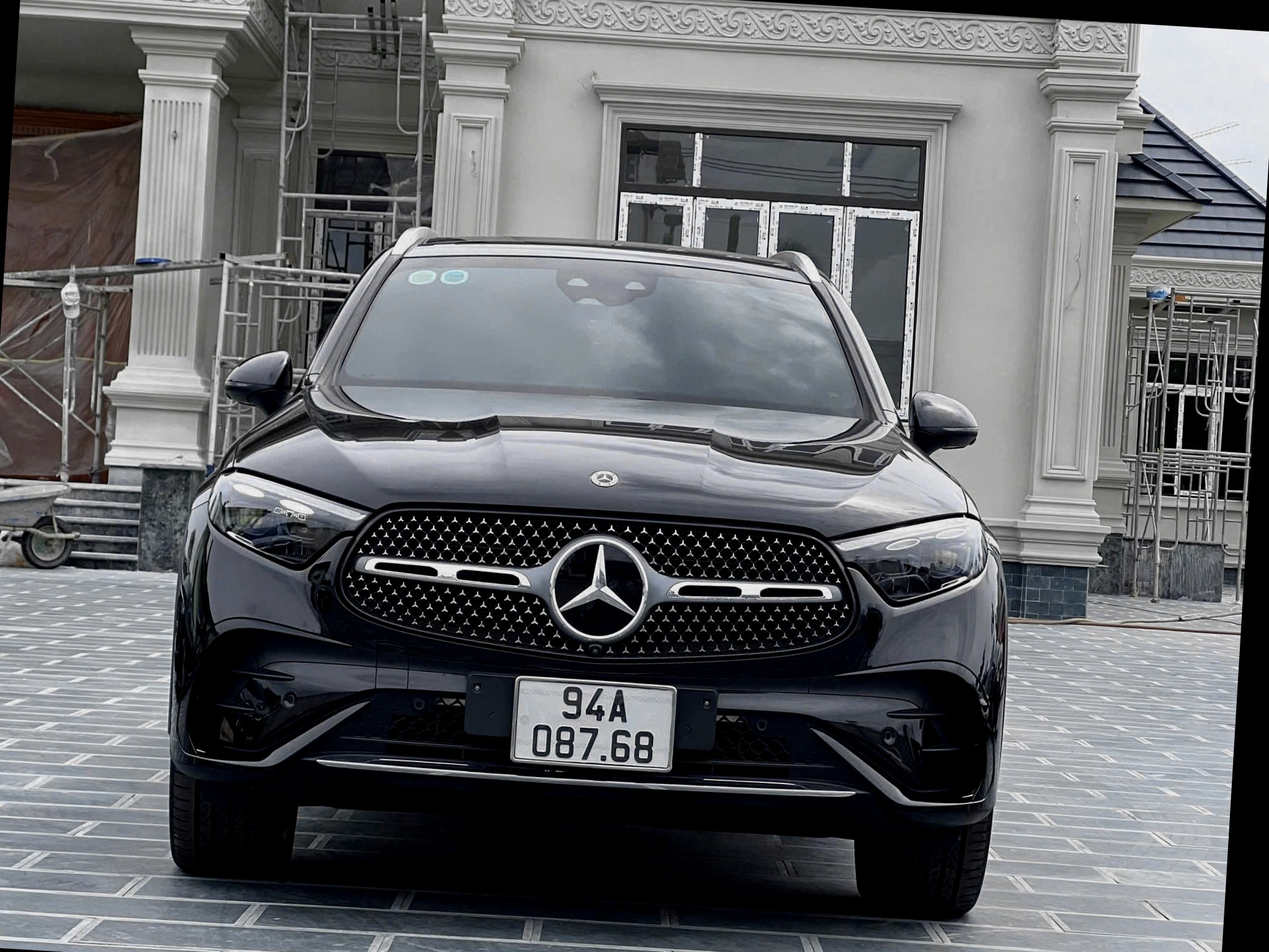Bien-so: (505, 667, 679, 777)
